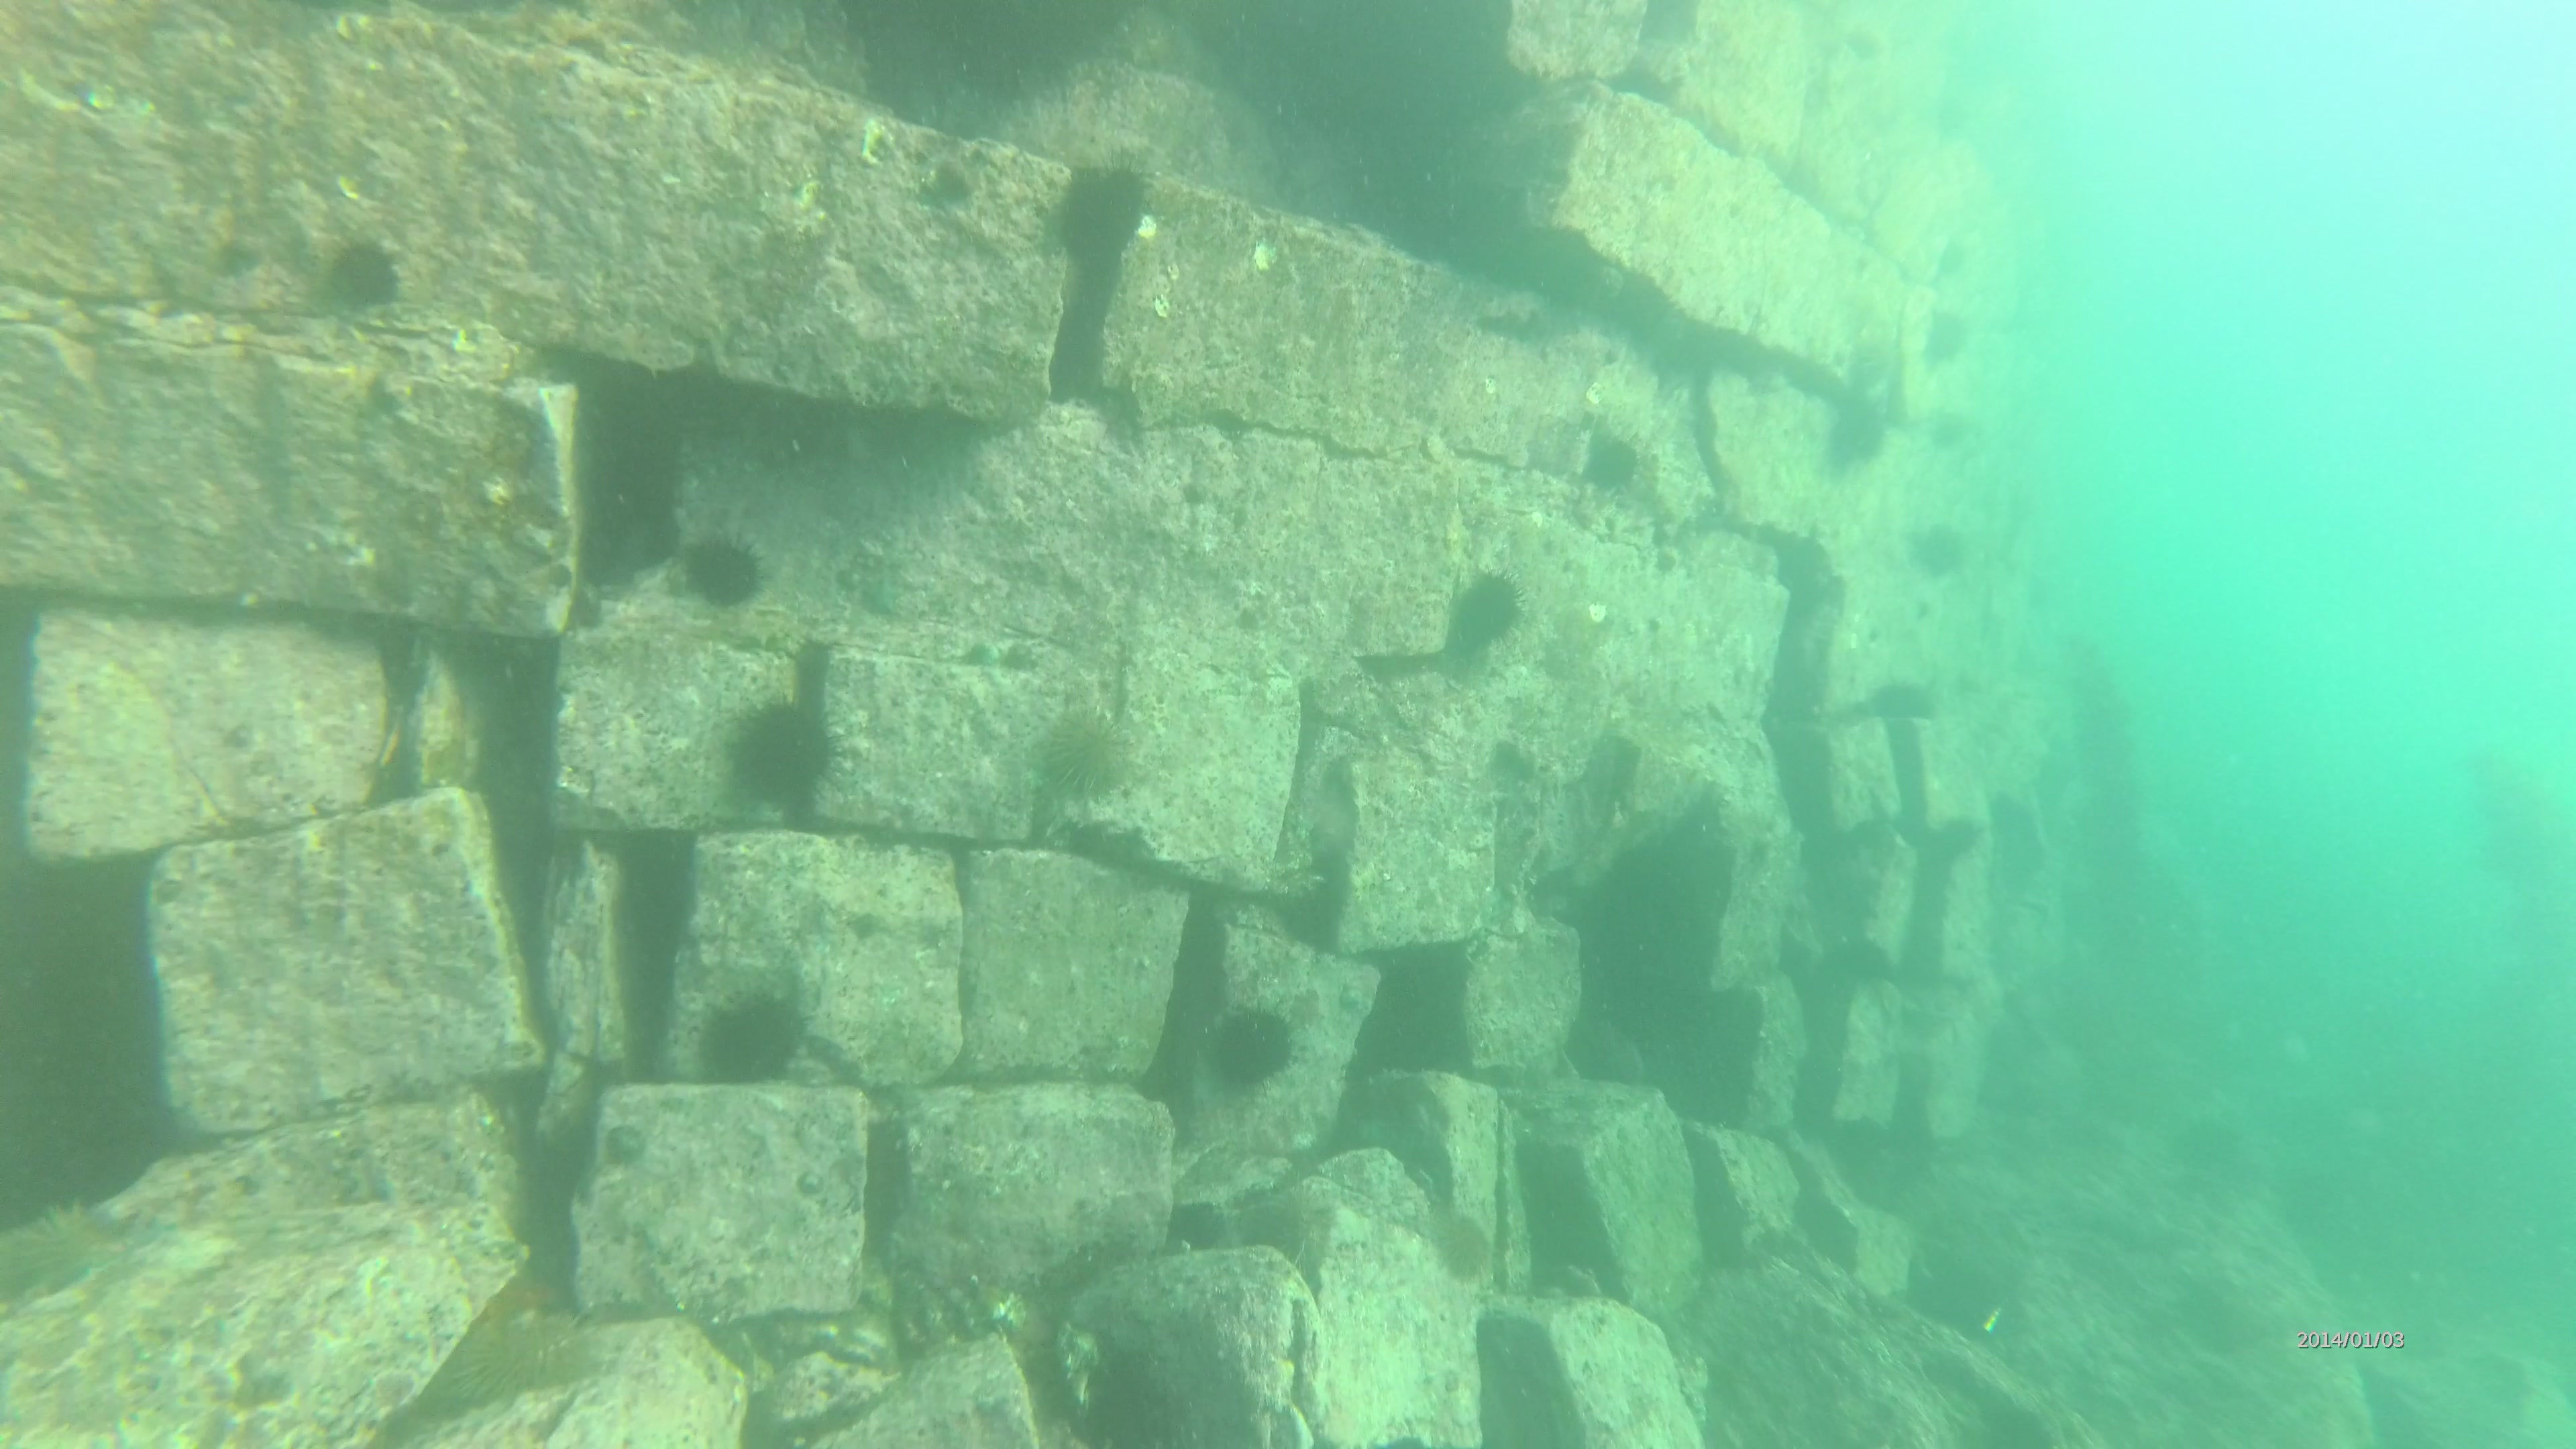echinus: (727, 679, 844, 809), (692, 994, 812, 1097), (1040, 694, 1146, 803), (1040, 161, 1150, 265), (1207, 989, 1304, 1104), (318, 235, 410, 331), (1444, 570, 1527, 671), (681, 520, 752, 617), (1433, 1207, 1499, 1295), (1575, 425, 1649, 499)
